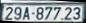-: (31, 12, 35, 15)
.: (61, 17, 63, 20)
2: (64, 7, 72, 20), (6, 7, 13, 20)
3: (73, 6, 81, 20)
7: (44, 6, 53, 20), (53, 6, 61, 20)
8: (36, 7, 43, 20)
9: (14, 7, 21, 20)
A: (22, 7, 31, 20)
